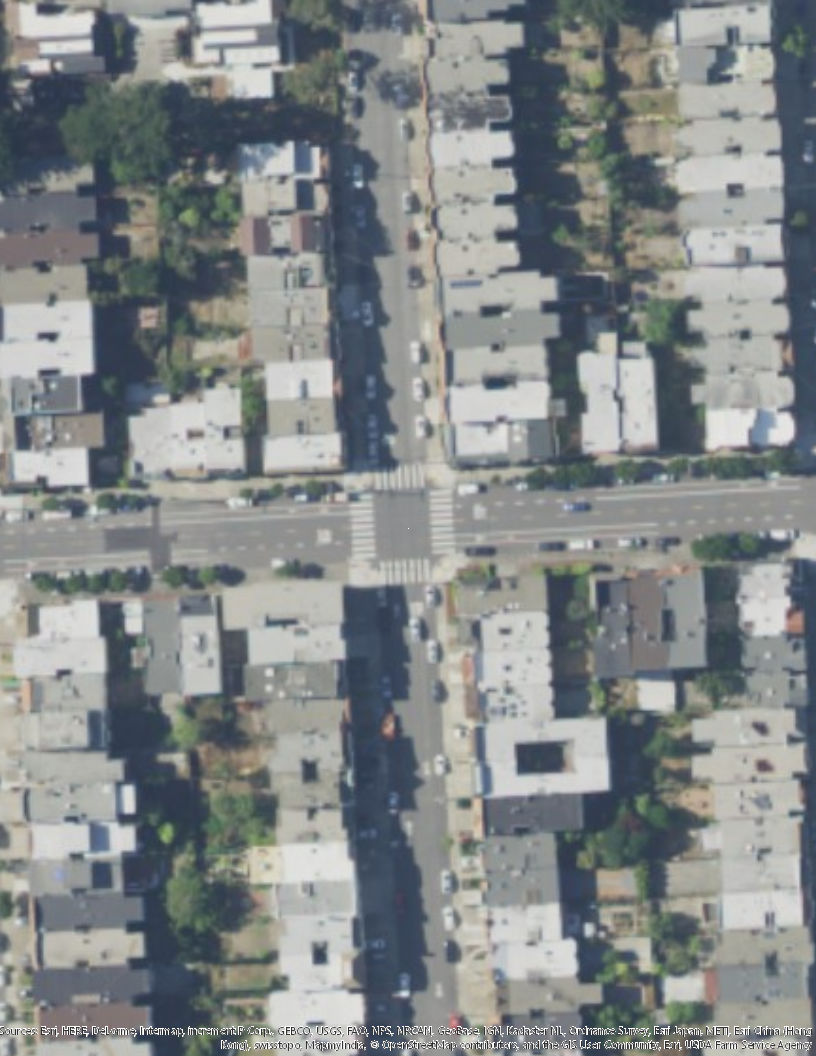zebracross: (348, 490, 379, 562), (425, 491, 457, 551), (375, 457, 429, 490), (386, 556, 434, 586)
